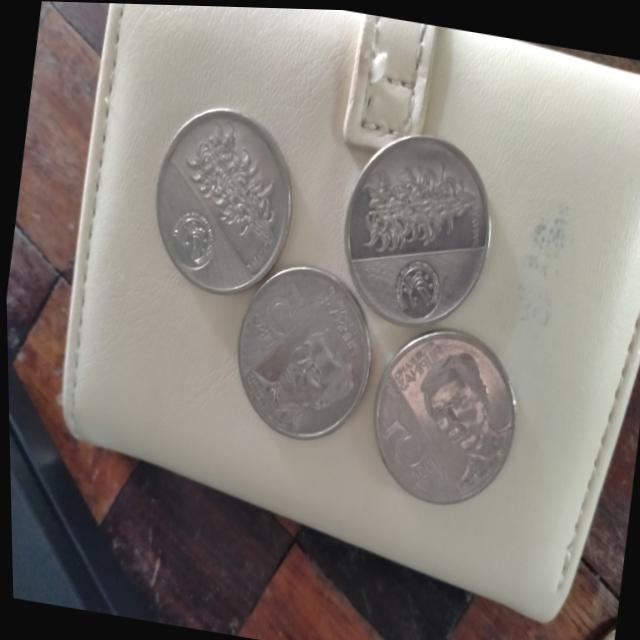5_New_Back: (351, 141, 494, 272), (174, 117, 290, 252)
5_New_Front: (360, 407, 443, 497)
